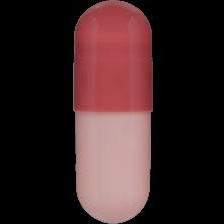10544-898: (0, 0, 224, 224)
